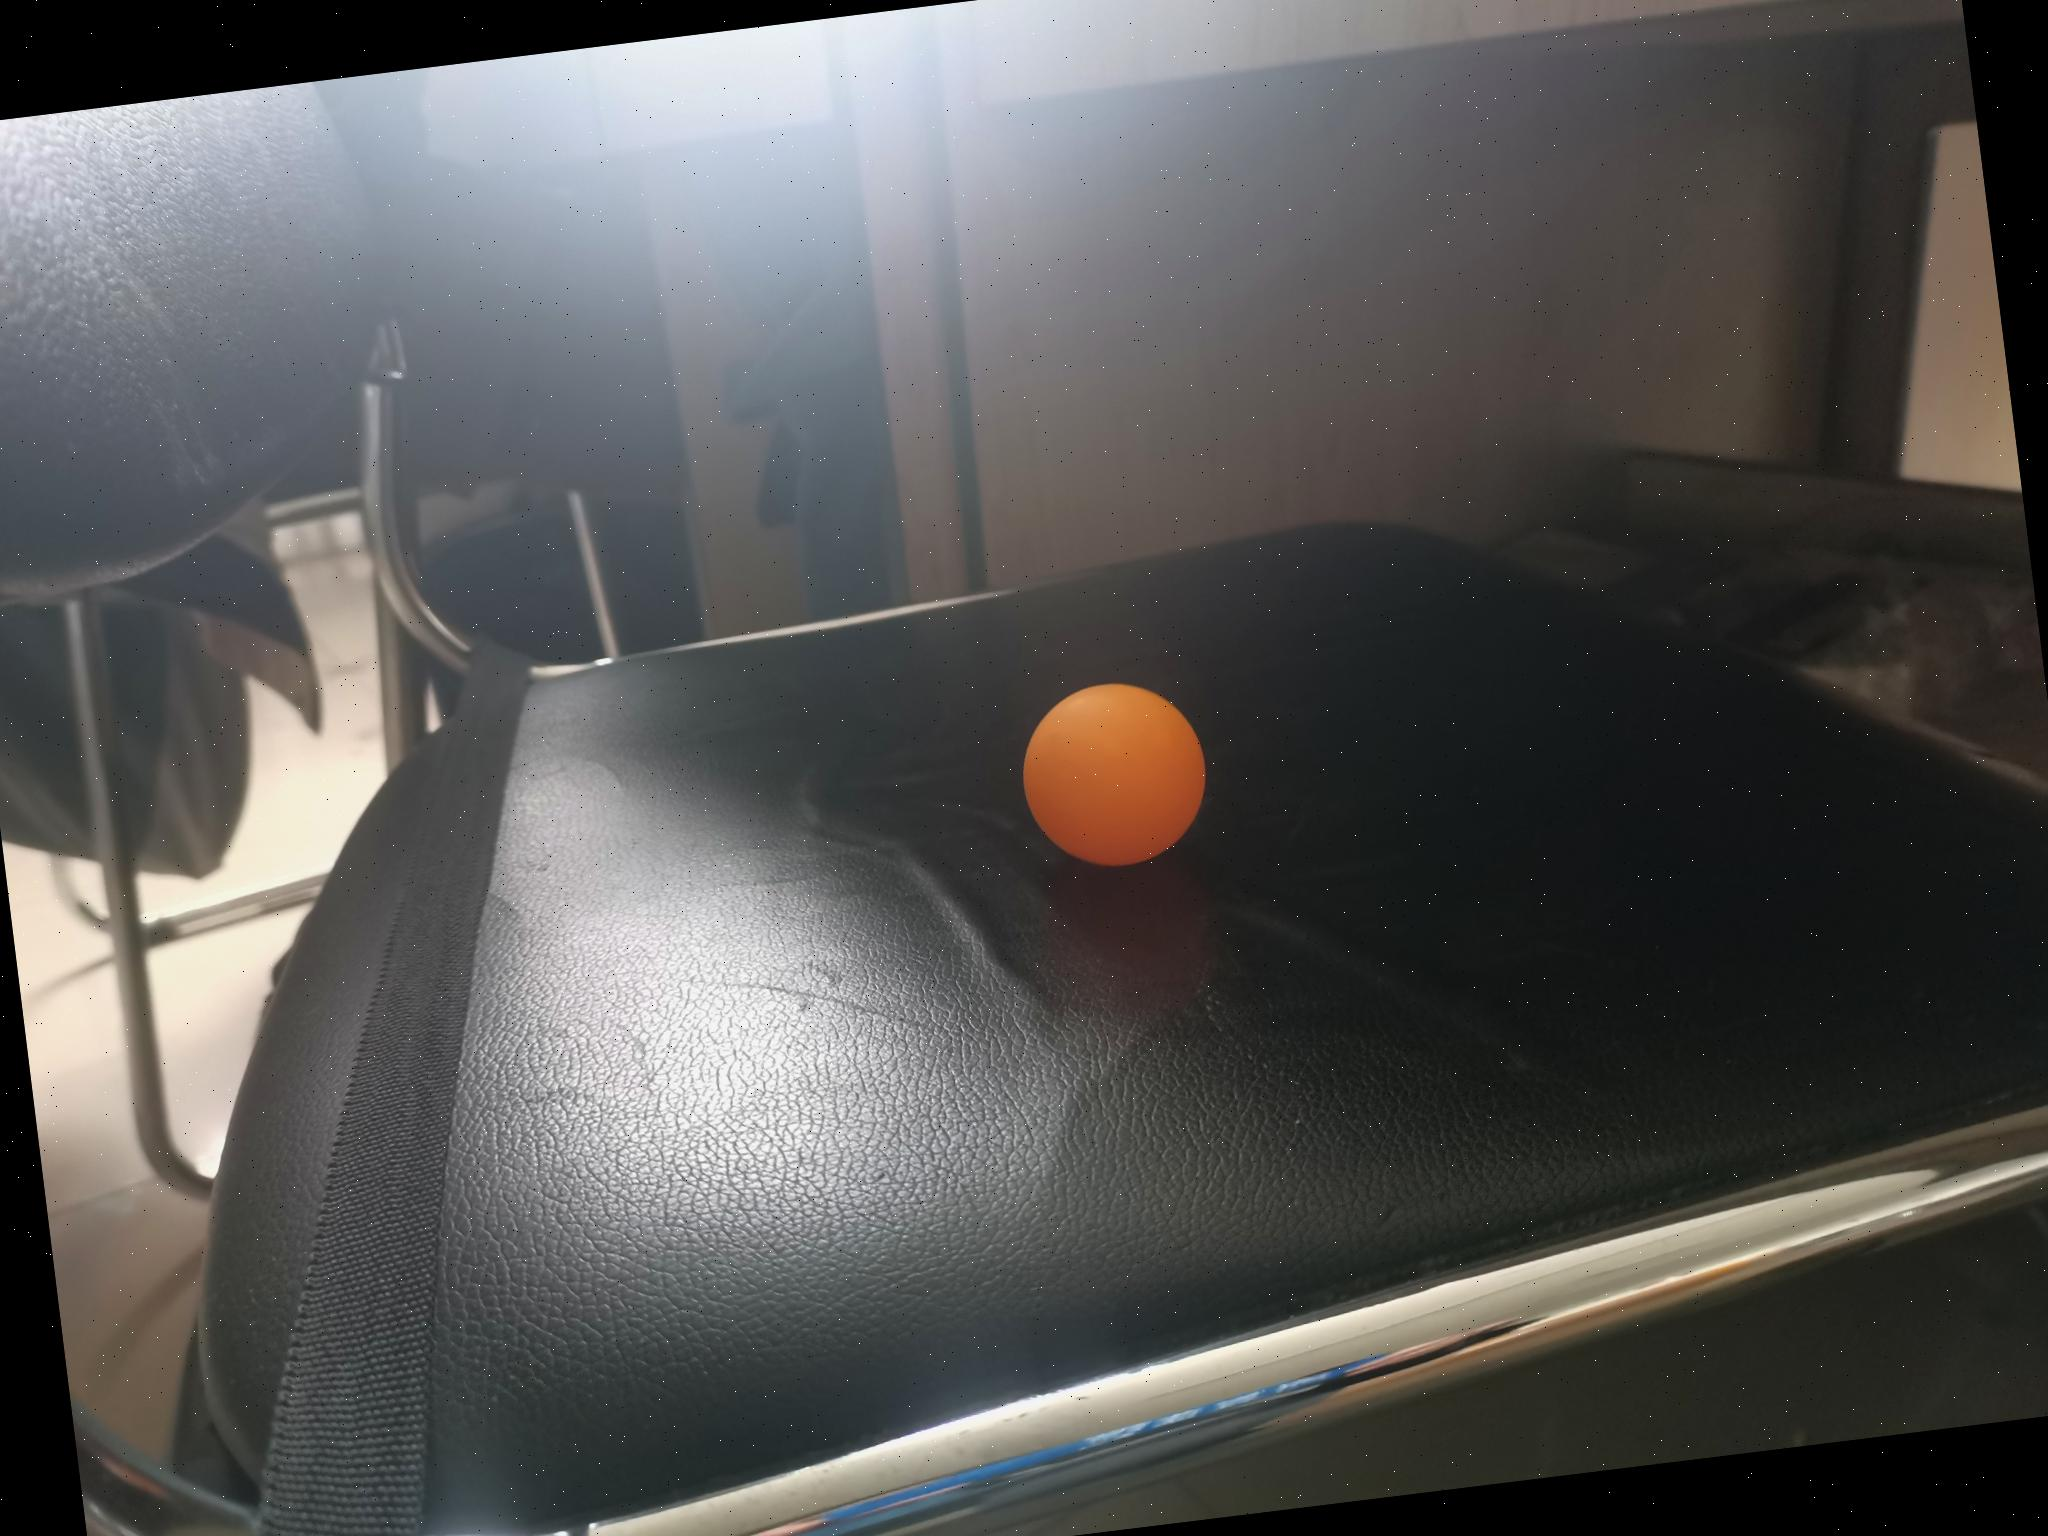ball: (1009, 670, 1214, 881)
